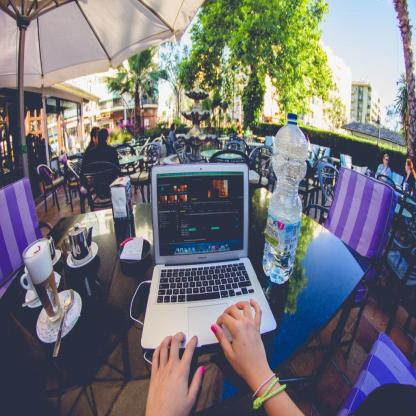board: (141, 161, 277, 349), (264, 112, 310, 282)
